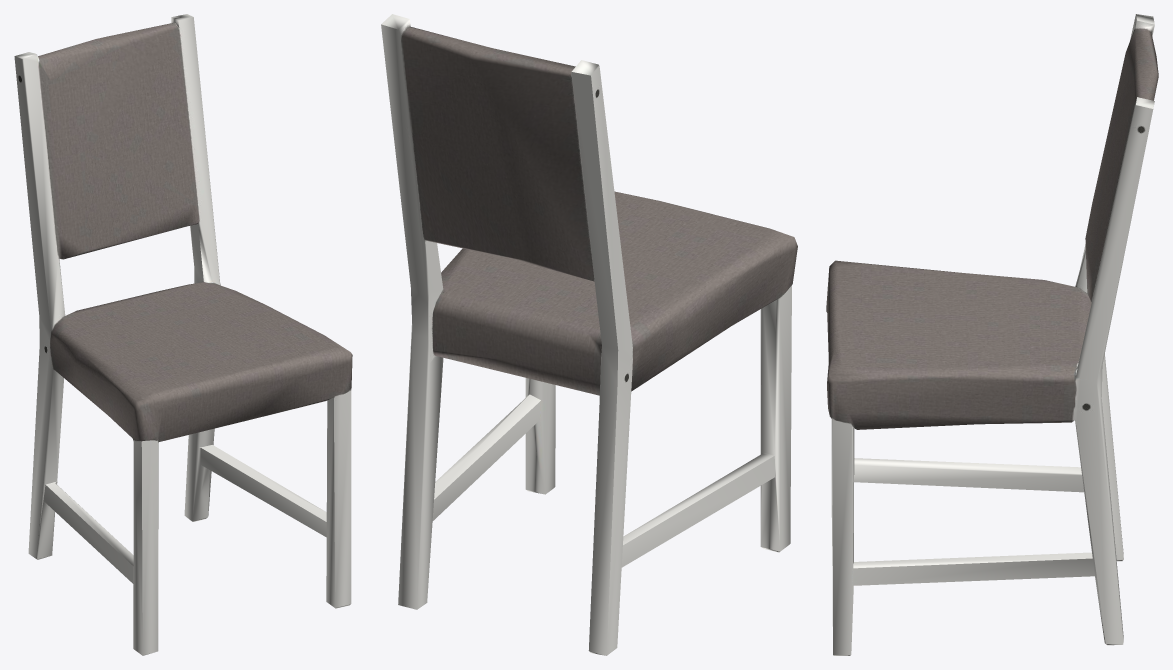
3 renders of one model, left to right at view 1: azimuth 30°, elevation 25°; view 2: azimuth 150°, elevation 25°; view 3: azimuth 270°, elevation 25°, orthographic. The views are drawn at different scales.
Parts seen in each view (by area): view 1: ASY_ART_90575201_S01_NV01; view 2: ASY_ART_90575201_S01_NV01; view 3: ASY_ART_90575201_S01_NV01.
Part boxes in pixels (x1,y1,x2,y2): ASY_ART_90575201_S01_NV01: [14, 14, 352, 655]; ASY_ART_90575201_S01_NV01: [381, 14, 797, 655]; ASY_ART_90575201_S01_NV01: [826, 14, 1158, 655].
Bounding box in the file's own units: 0.4184 × 0.9016 × 0.5017.
1 material, 1 textured.
